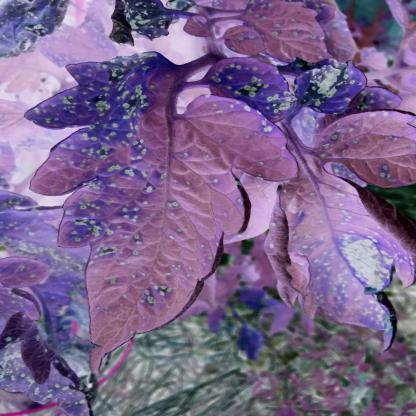Tomato leaf late blight: (25, 32, 300, 392), (264, 160, 416, 352), (194, 51, 372, 124), (211, 2, 346, 66), (318, 108, 416, 181)
